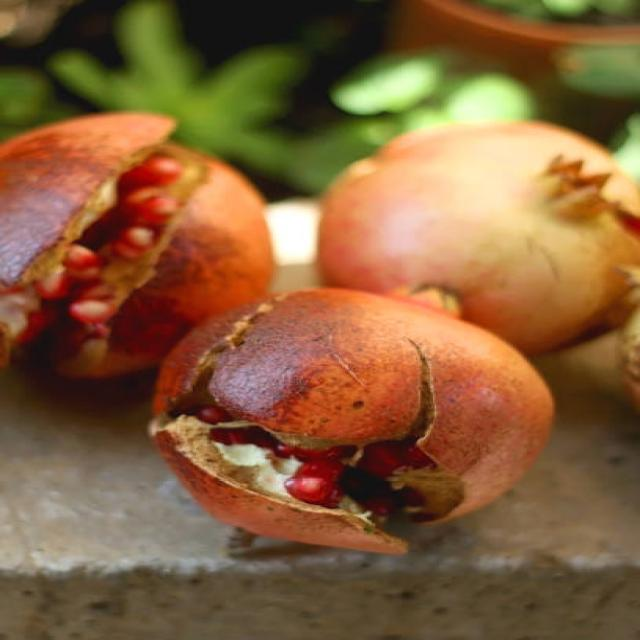overripe: (152, 280, 570, 560), (0, 103, 225, 383)
